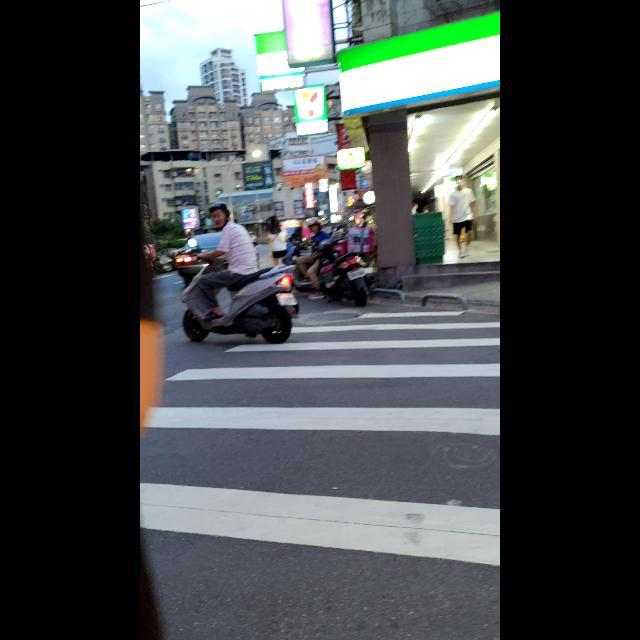sidewalk: (140, 319, 500, 564)
